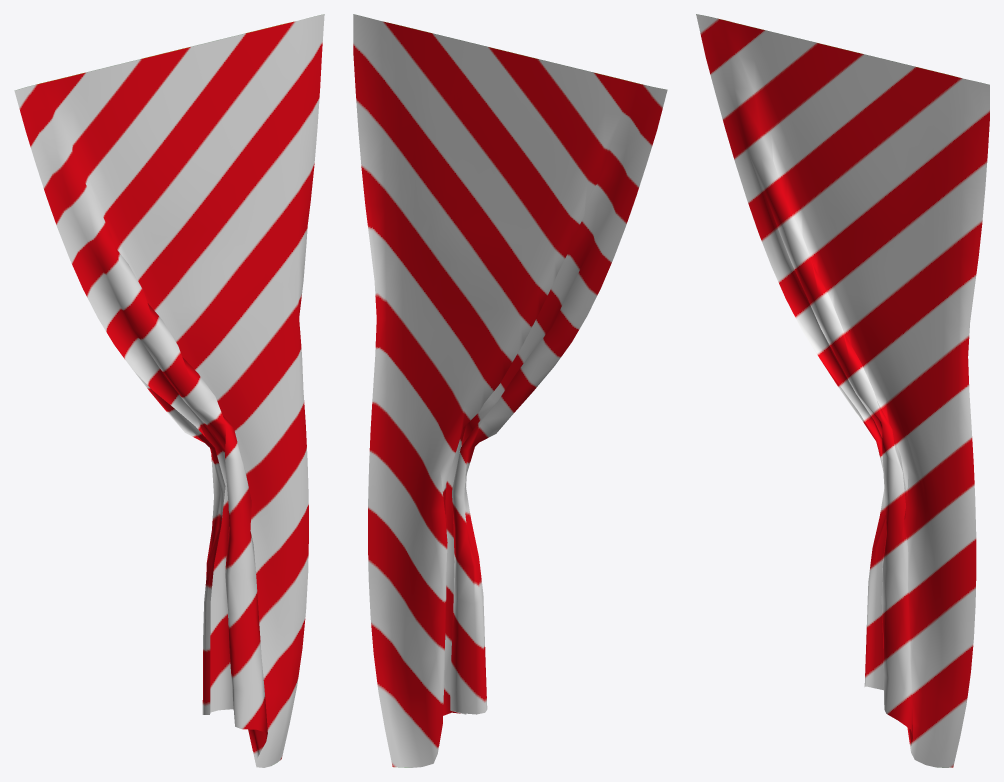
Rendered from CurtainRightCandyCane.glb.
3 renders of one model, left to right at view 1: azimuth 30°, elevation 25°; view 2: azimuth 150°, elevation 25°; view 3: azimuth 330°, elevation 25°, orthographic. The views are drawn at different scales.
Parts seen in each view (by area): view 1: CurtainRightCandyCane; view 2: CurtainRightCandyCane; view 3: CurtainRightCandyCane.
Part boxes in pixels (bbox=[...]): CurtainRightCandyCane: bbox=[14, 14, 324, 767]; CurtainRightCandyCane: bbox=[353, 14, 667, 767]; CurtainRightCandyCane: bbox=[696, 14, 989, 767].
Size of the model in its own units: 0.874 by 1.98 by 0.0844.
1 material, 1 textured.
